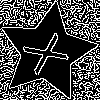X: (22, 27, 78, 77)
